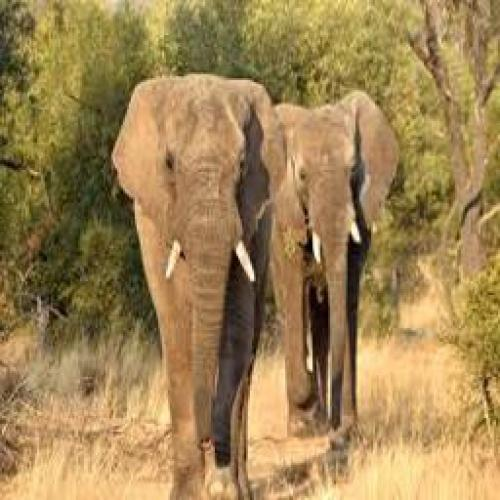african_elephant-endangered: (112, 74, 283, 500), (261, 98, 397, 452)
